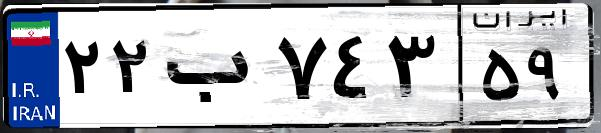2: (57, 26, 110, 100), (110, 28, 158, 98)
3: (385, 28, 445, 110)
4: (330, 28, 385, 110)
5: (475, 38, 525, 113)
7: (270, 28, 330, 110)
9: (525, 38, 570, 115)
ب: (158, 20, 270, 120)
